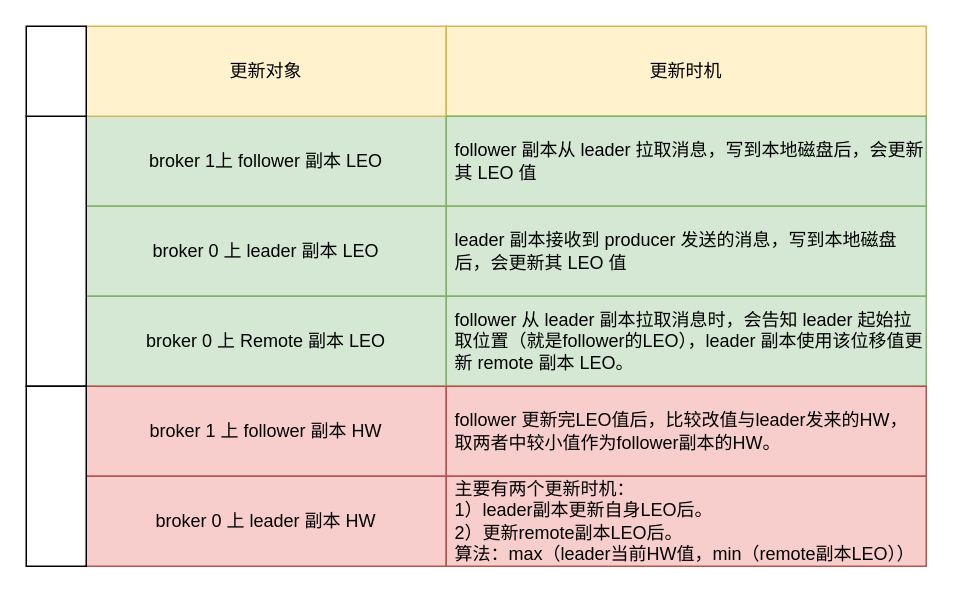
Some shapes in this 953 by 593 pixel diagram are drawn without their labels. Here are the shapes that lost their labels. From the top down, the centre of each, then its label:
At [55,70]: "指标".
At [55,250]: "LEO".
At [55,475]: "HW".
